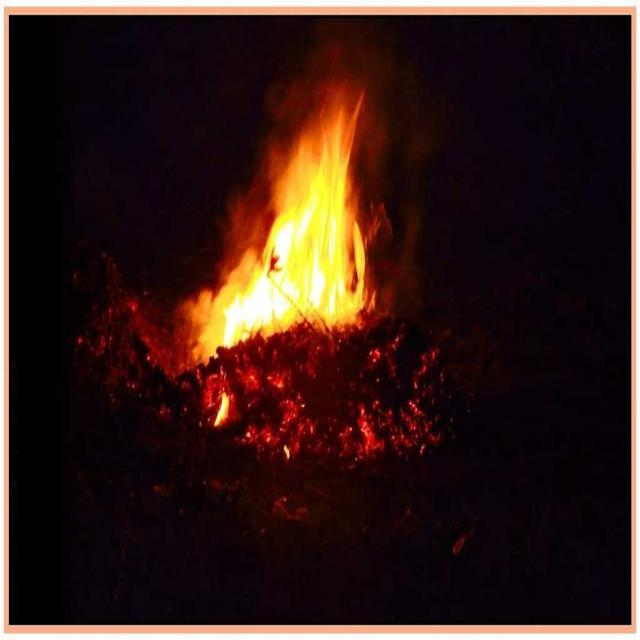Fire: (260, 130, 350, 324)
